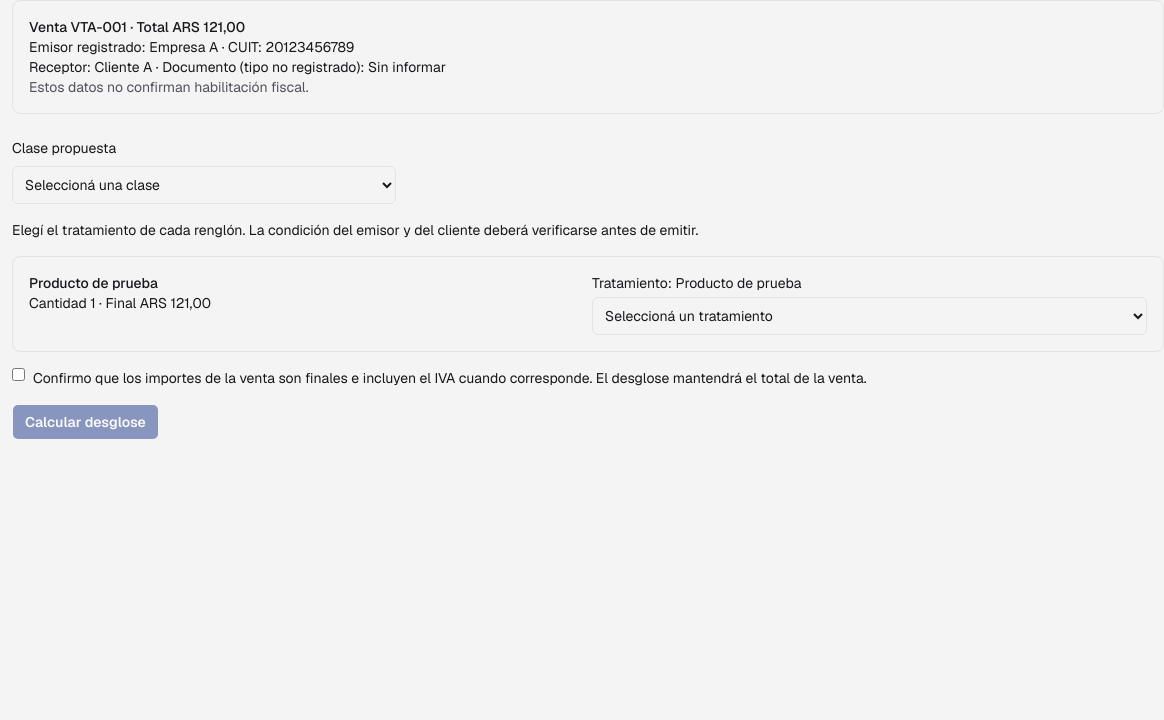
Test case: Fiscal draft preparation › invalidates the preview and clears treatments when changing invoice class to C
Select "B" in the dropdown labelled "Clase propuesta". click: (204, 185)
box: [12,166,396,204]
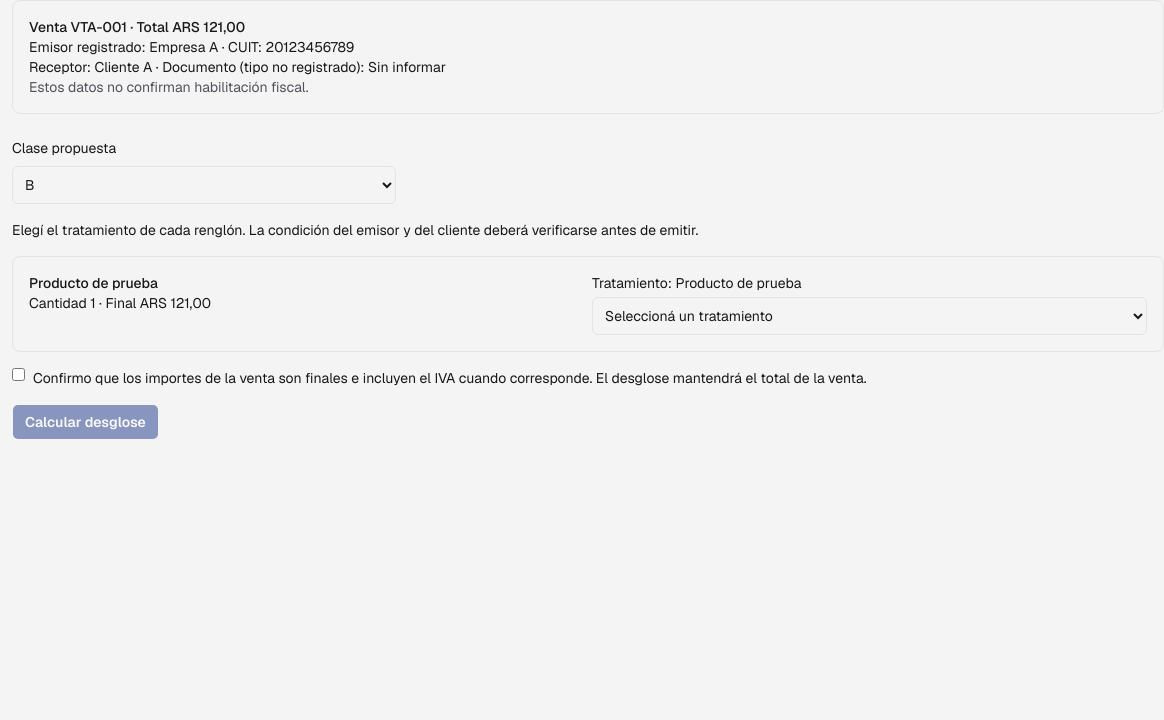
Select "IVA 21%" in the dropdown labelled "Tratamiento: Producto de prueba". click: (870, 316)
box: [592,297,1147,335]
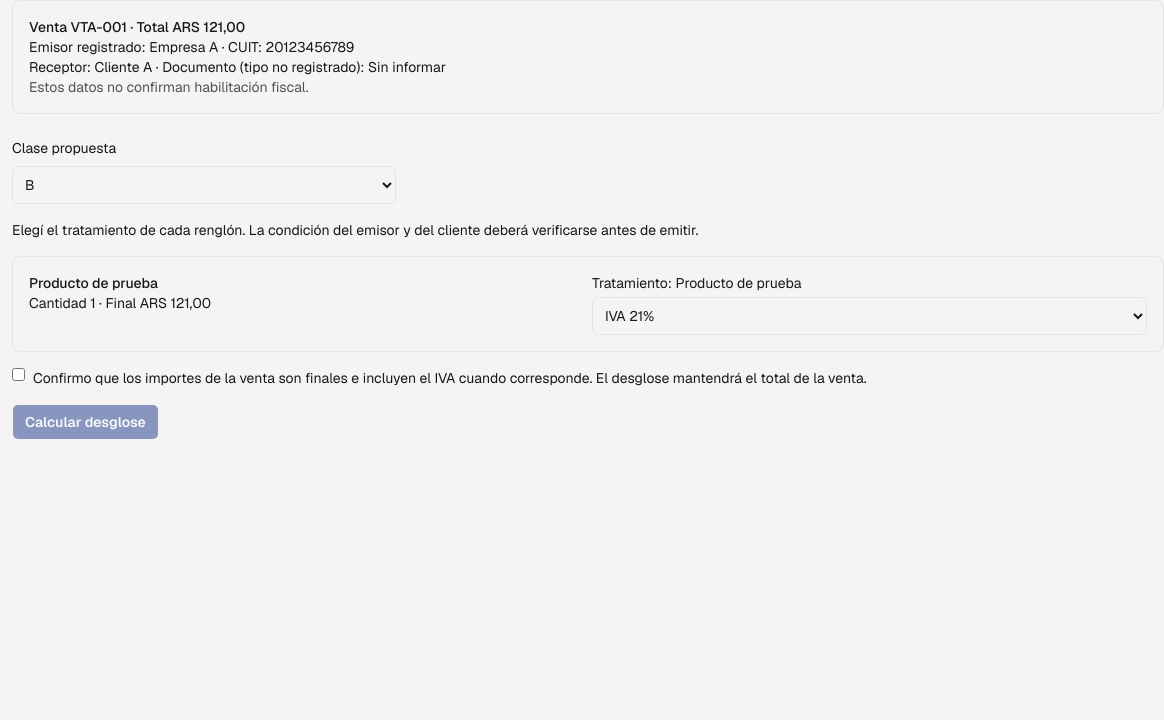
Click the checkbox. click: click(18, 374)
box: [12,368,25,381]
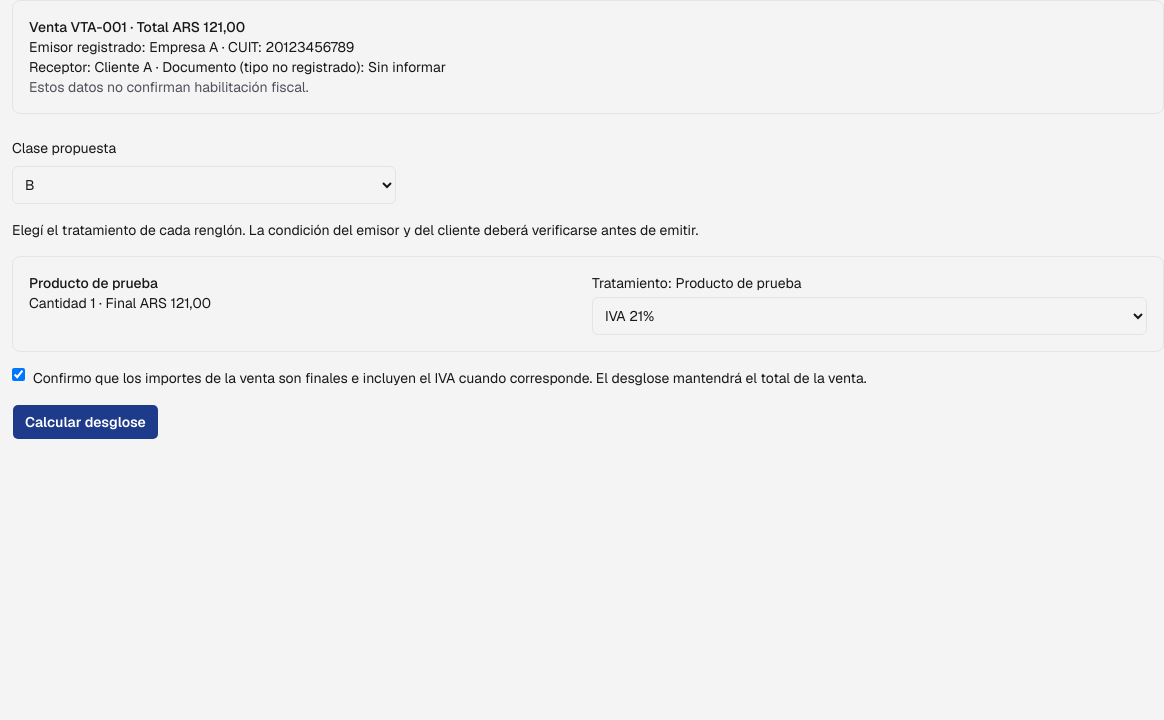
Click the button "Calcular desglose". click: click(85, 422)
box: [12,404,159,440]
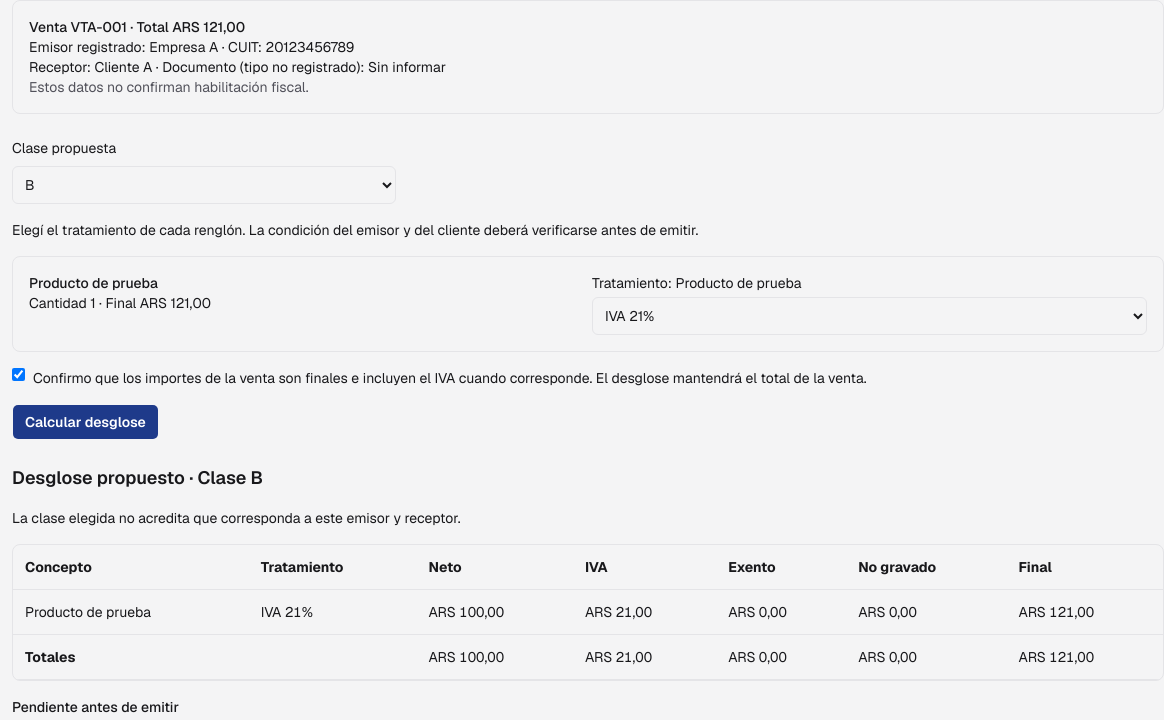
Result: the heading "Desglose propuesto · Clase B" is shown at [12,466,263,489]
Select "C" in the dropdown labelled "Clase propuesta". click: (204, 185)
box: [12,166,396,204]
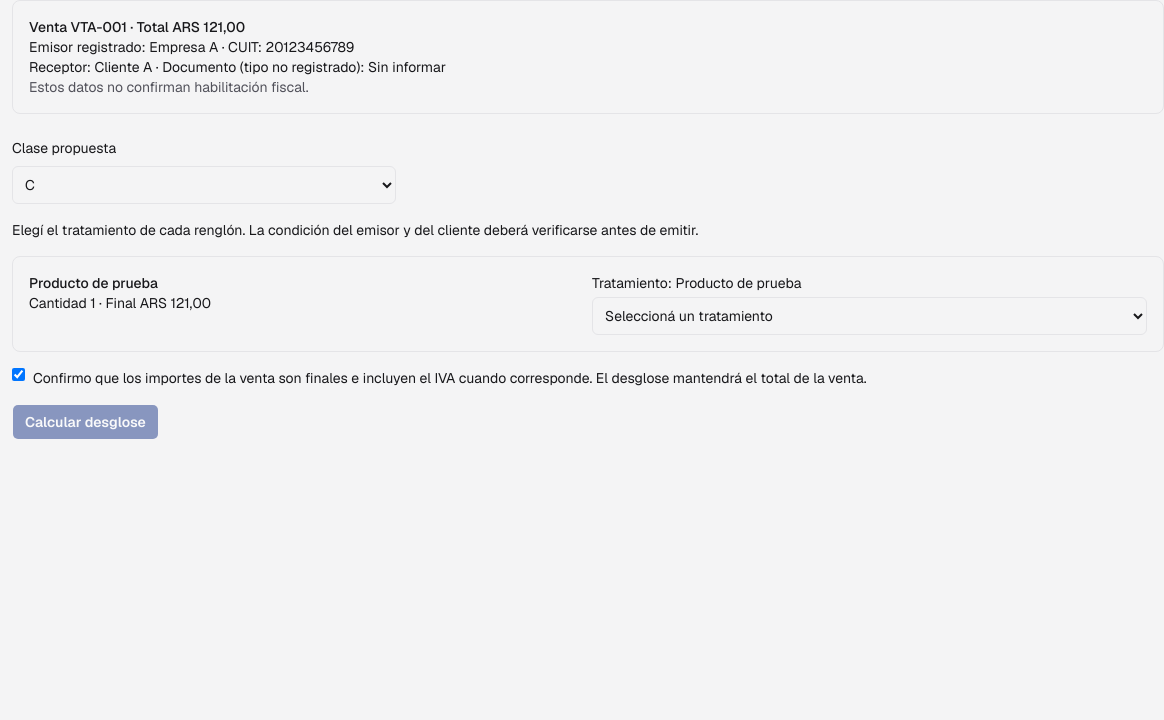
Result: the cell "IVA 21%" is gone
